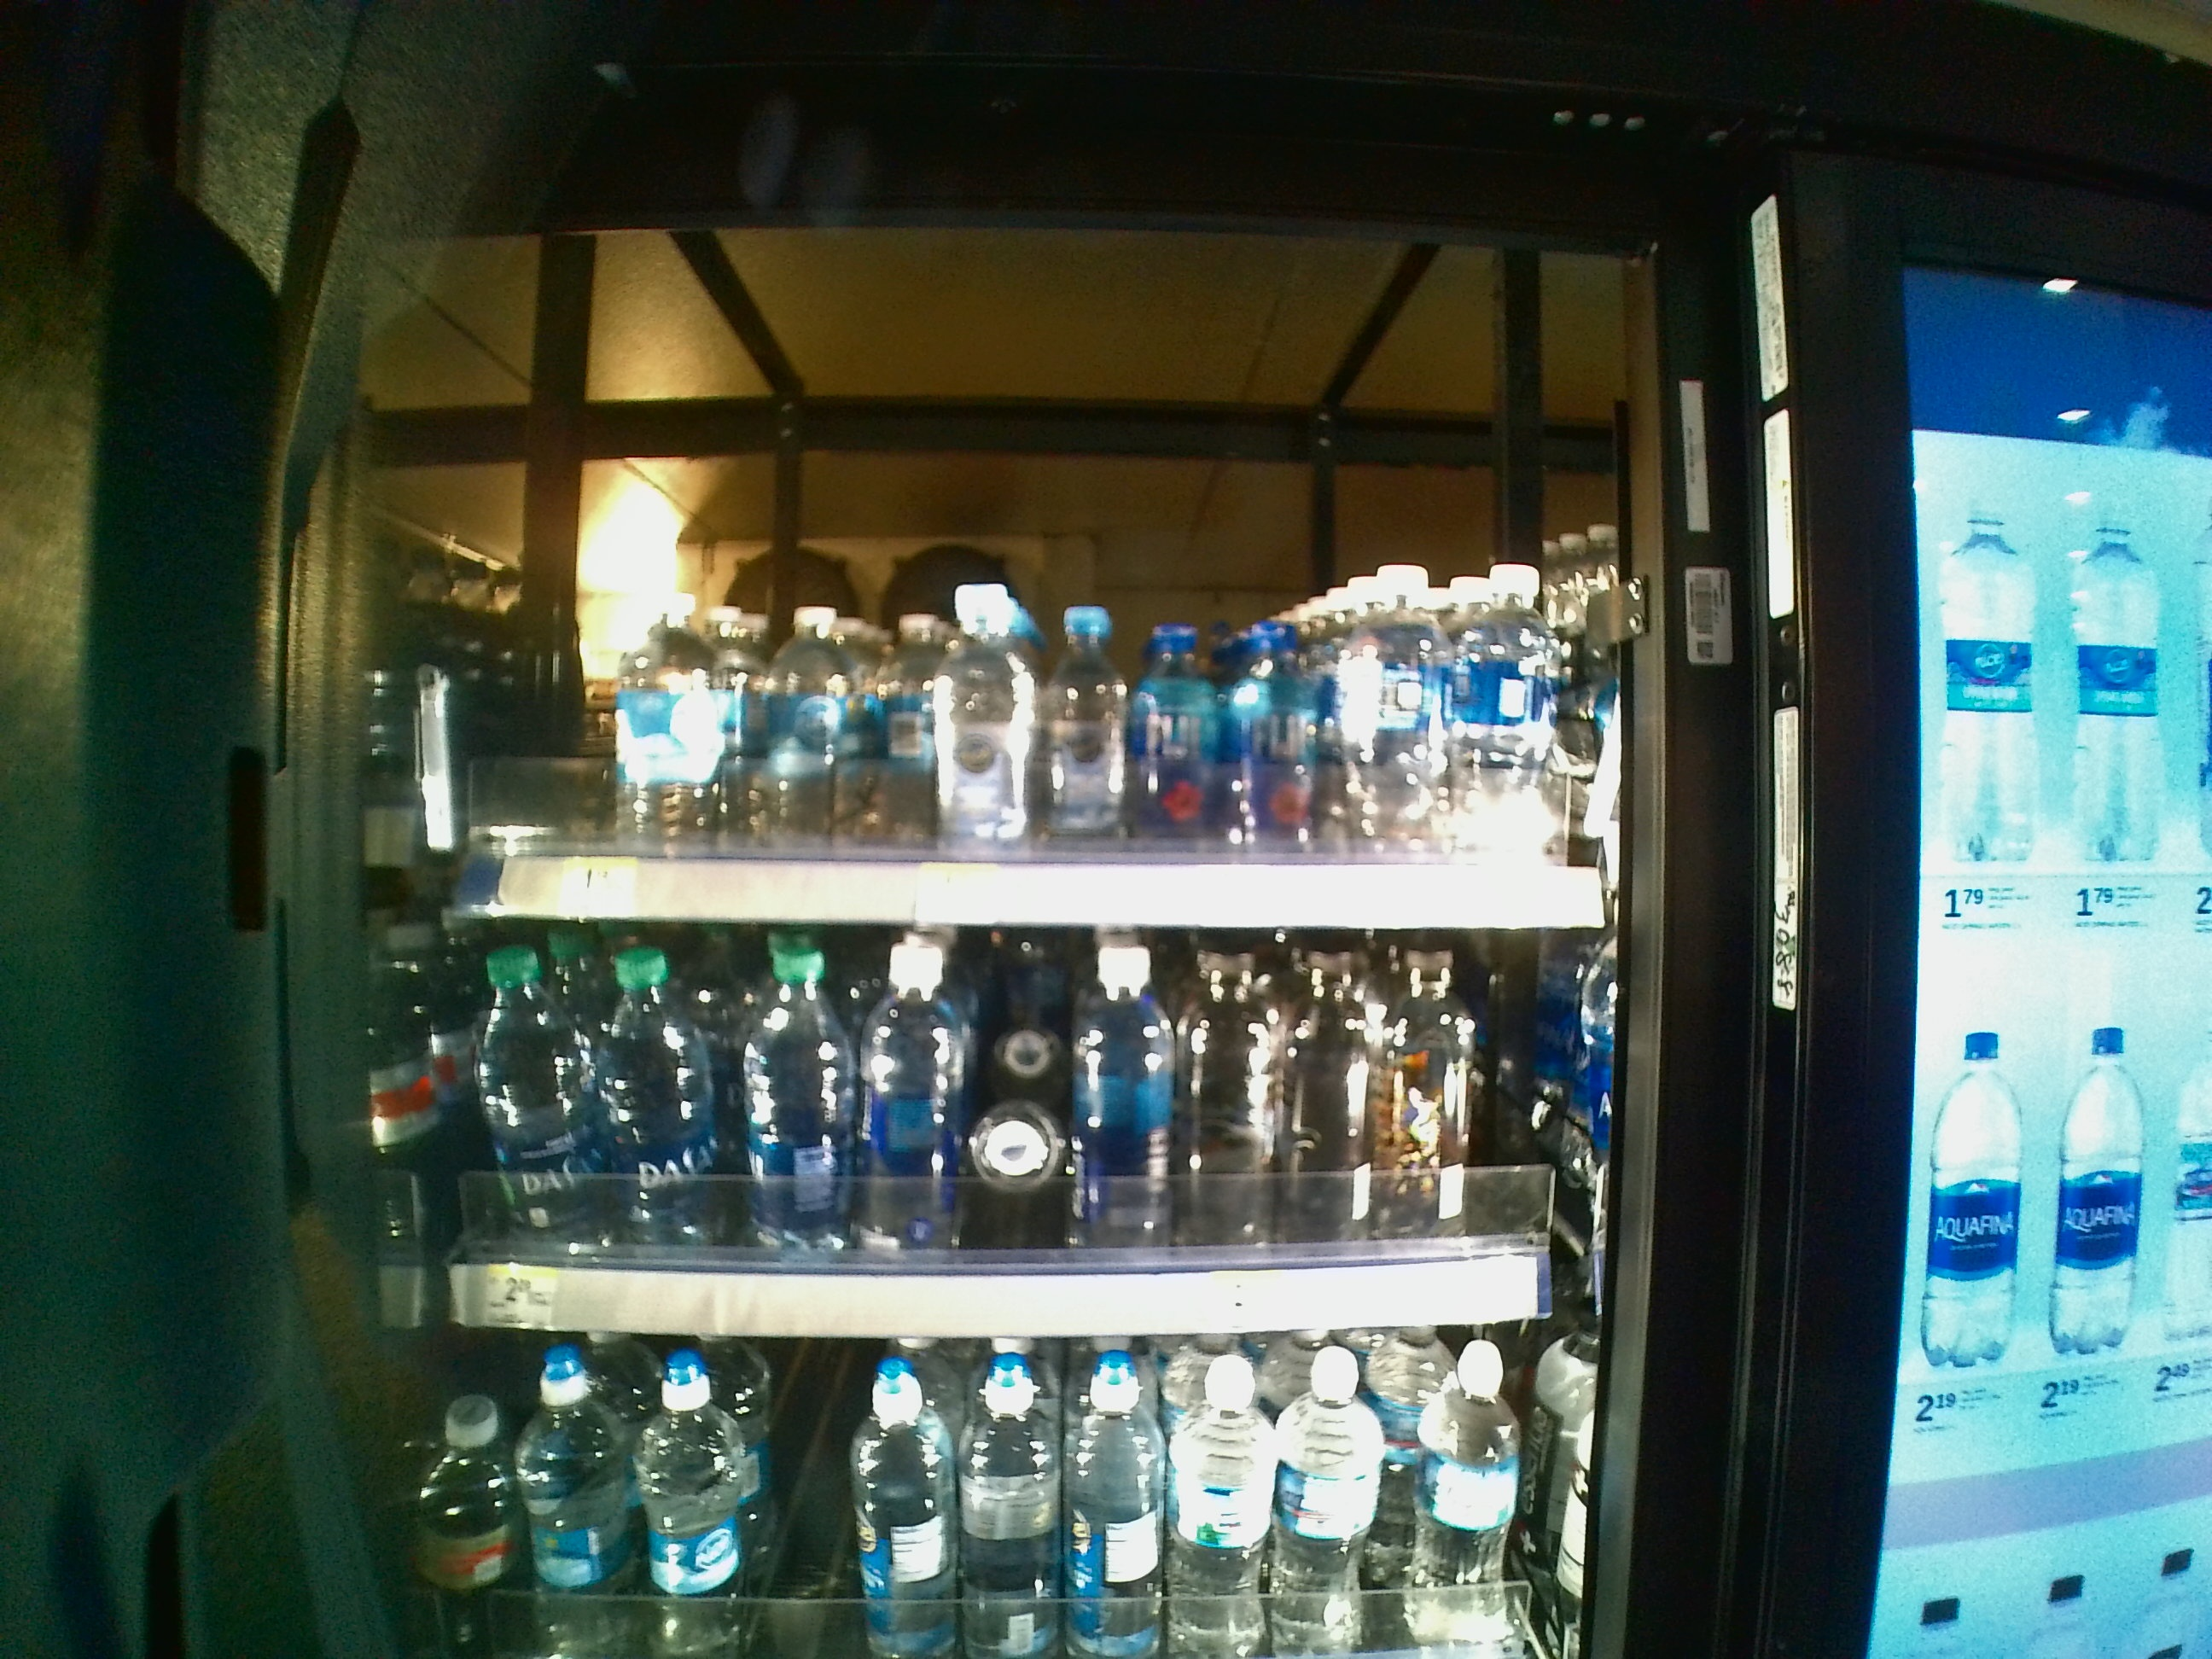Shelf: (411, 225, 1635, 929), (411, 929, 1635, 1349)
